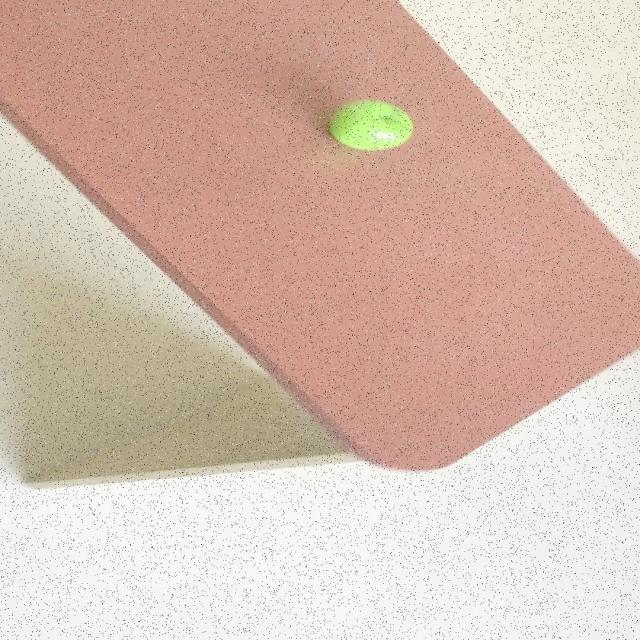Apple: (327, 98, 413, 150)
